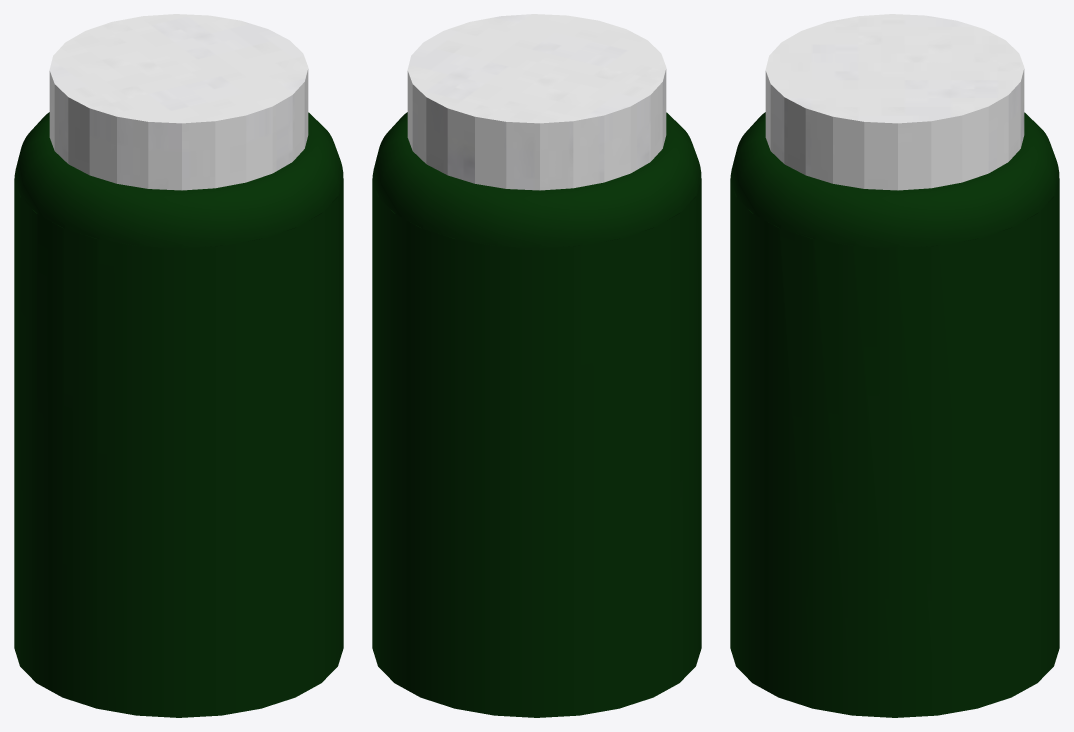
The model's file is RemedioVerdeEscuro.dae.
3 renders of one model, left to right at view 1: azimuth 30°, elevation 25°; view 2: azimuth 150°, elevation 25°; view 3: azimuth 270°, elevation 25°, orthographic.
Visible parts, largest first — view 1: instance_0 (×2); view 2: instance_0 (×2); view 3: instance_0 (×2).
Part boxes in pixels (x1,y1,x2,y2): instance_0 (×2): (14, 14, 343, 717); instance_0 (×2): (372, 14, 701, 717); instance_0 (×2): (730, 14, 1059, 717).
Size of the model in its own units: 0.9996 by 0.9996 by 1.94.
Materials: 2 (1 with a texture image).
